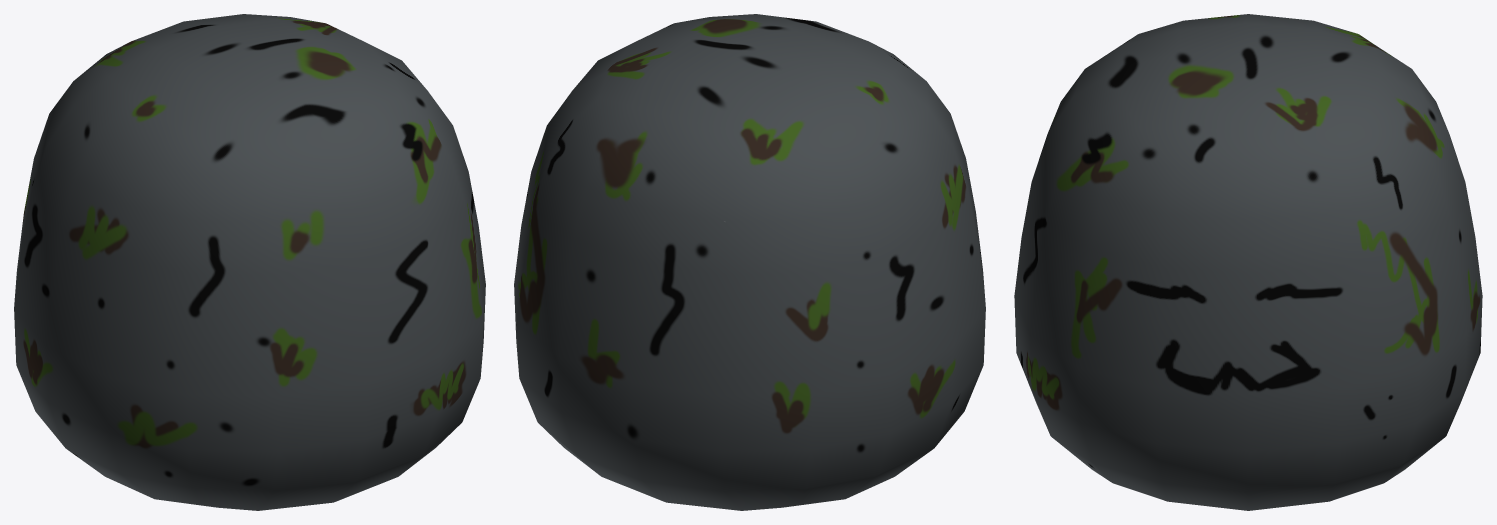
The model's file is EstatuaSlimeGrande.fbx.
3 renders of one model, left to right at view 1: azimuth 30°, elevation 25°; view 2: azimuth 150°, elevation 25°; view 3: azimuth 270°, elevation 25°, orthographic.
Parts seen in each view (by area): view 1: Cube.010; view 2: Cube.010; view 3: Cube.010.
Part boxes in pixels (x1,y1,x2,y2): Cube.010: (14, 14, 485, 510); Cube.010: (514, 14, 985, 510); Cube.010: (1014, 14, 1482, 510).
Size of the model in its own units: 441 by 440 by 441.
Materials: 1 (1 with a texture image).
